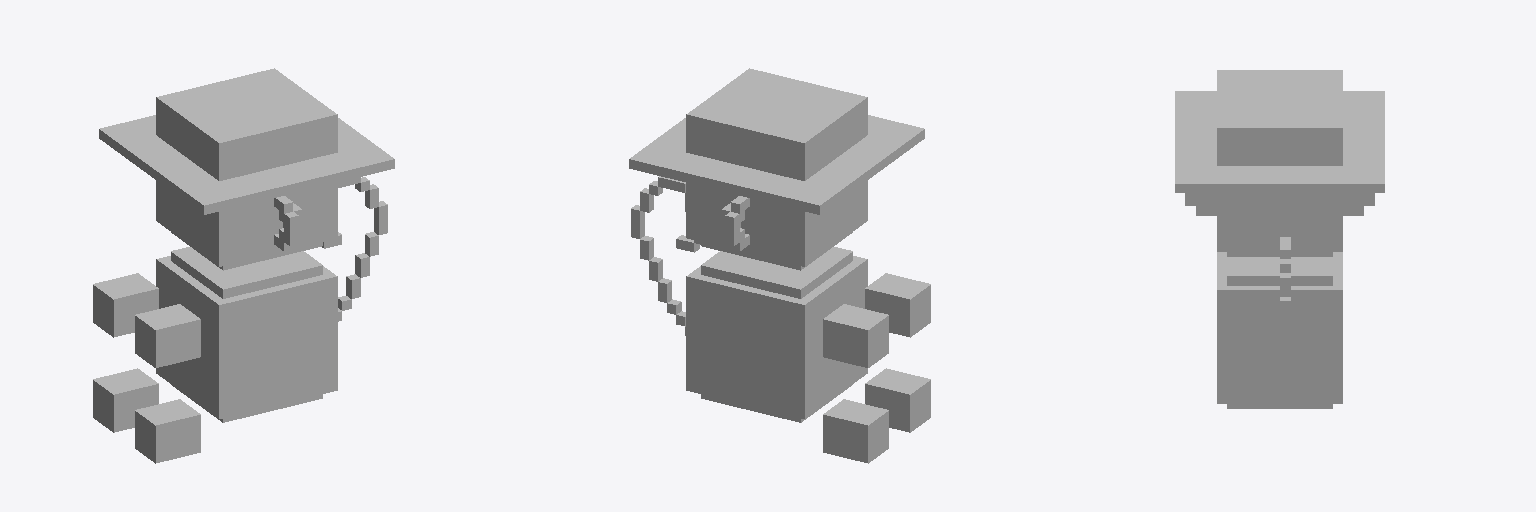
File: Monkeyhat.obj
3 renders of one model, left to right at view 1: azimuth 30°, elevation 25°; view 2: azimuth 150°, elevation 25°; view 3: azimuth 270°, elevation 25°, orthographic.
Parts seen in each view (by area): view 1: Monkeyhat; view 2: Monkeyhat; view 3: Monkeyhat.
Boxes of the visible parts, x1,y1,x2,y2 form: Monkeyhat: [93, 68, 394, 463]; Monkeyhat: [629, 68, 930, 463]; Monkeyhat: [1175, 70, 1384, 408].
Size of the model in its own units: 29 by 32 by 20.